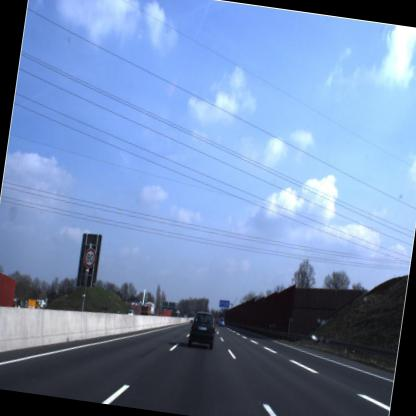prohibitory: (80, 246, 98, 271)
